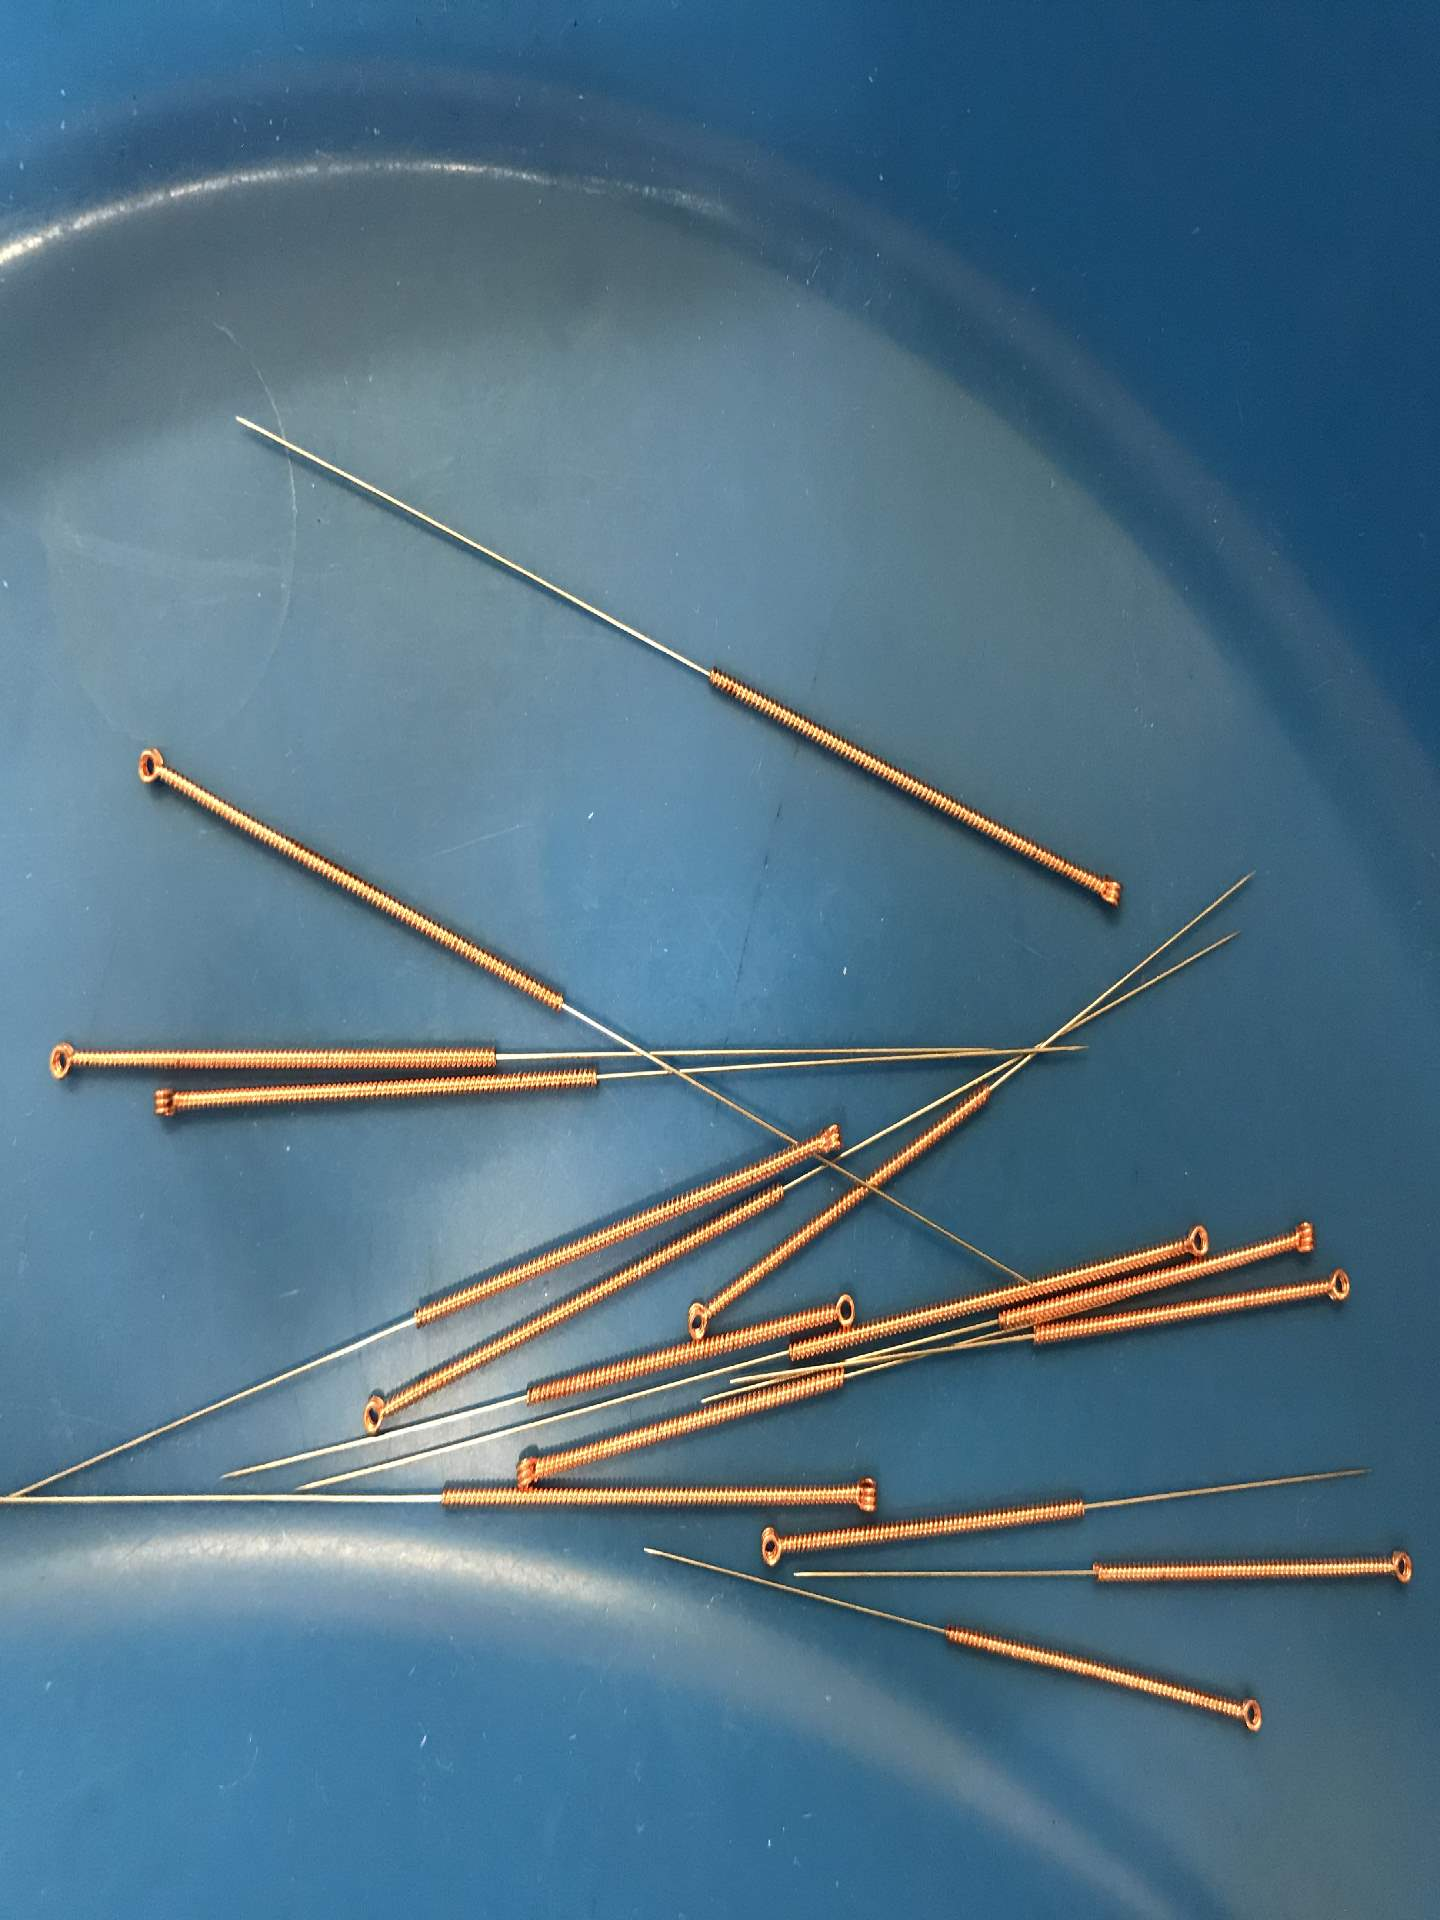needle: (119, 735, 188, 800), (827, 1466, 898, 1522), (1075, 859, 1136, 924), (349, 1379, 405, 1448), (32, 1033, 92, 1095), (1308, 1256, 1367, 1314), (1271, 1209, 1330, 1265), (1222, 1683, 1275, 1745), (743, 1519, 802, 1574), (138, 1075, 194, 1131), (1373, 1538, 1425, 1598), (805, 1110, 850, 1172), (505, 1442, 558, 1494), (676, 1284, 720, 1346), (814, 1281, 859, 1333), (1168, 1209, 1213, 1262)
